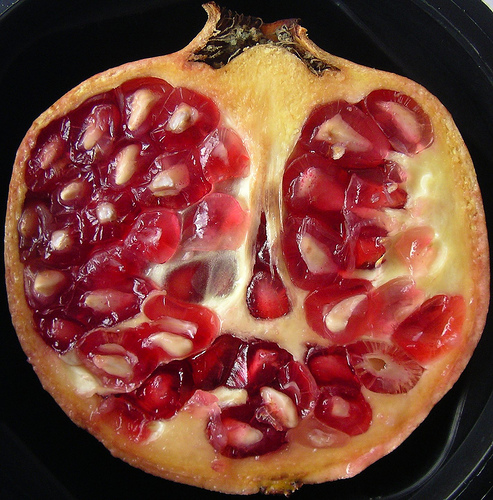pomogranate: (5, 2, 487, 495)
